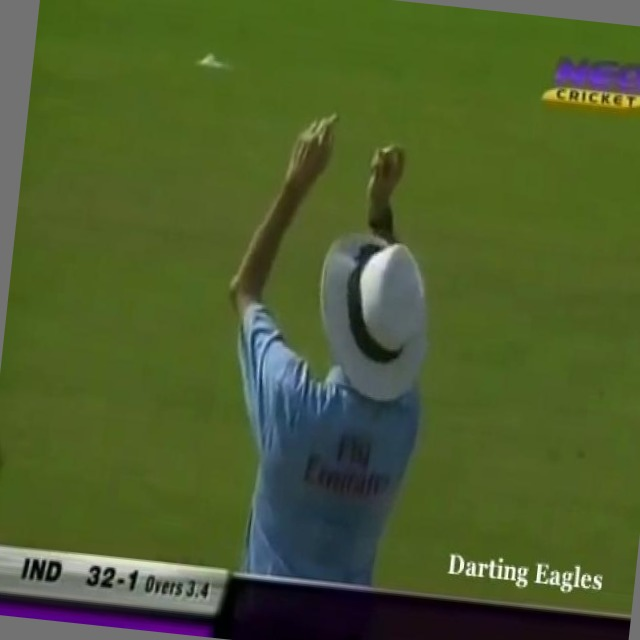Six: (184, 90, 461, 591)
